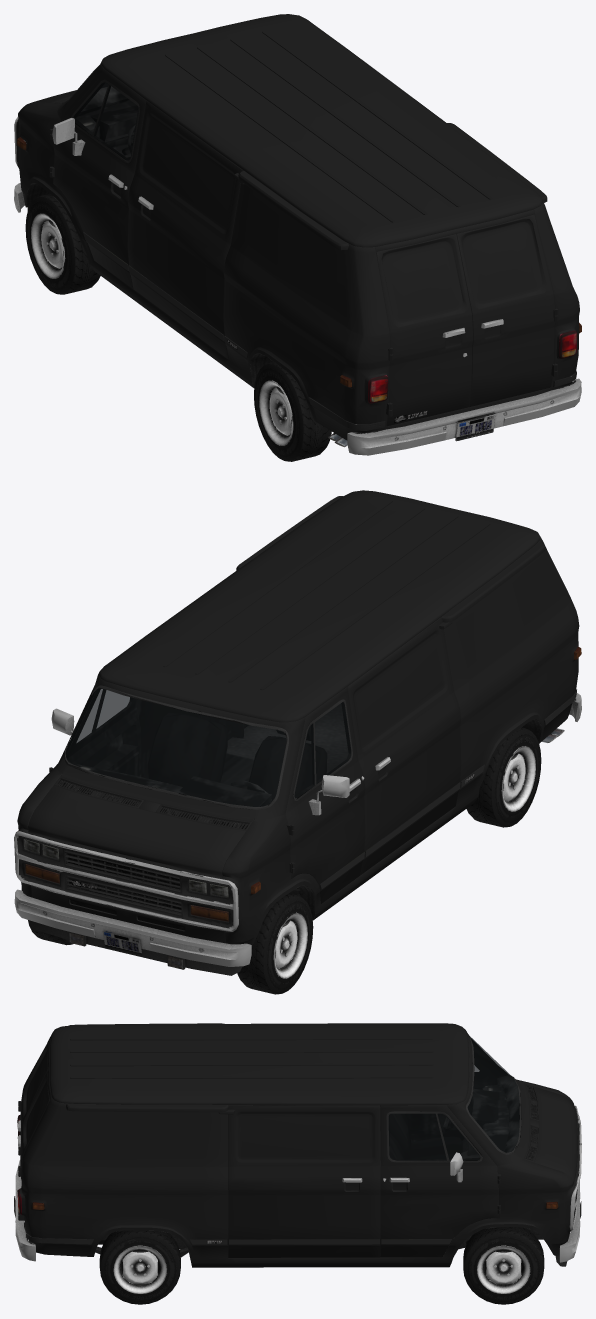
File: shvan_van.glb
The picture shows the model from 3 angles, top to bottom: view 1: azimuth 30°, elevation 25°; view 2: azimuth 150°, elevation 25°; view 3: azimuth 270°, elevation 25°; orthographic projection. The views are drawn at different scales.
Visible parts, largest first — view 1: Body, Trim, WheelRL, WheelFL, Interior, Glass, LightsRear; view 2: Body, Trim, Glass, Interior, WheelFL, WheelRL, LightsFront; view 3: Body, Glass, Interior, Trim, WheelFR, WheelRR.
Boxes of the visible parts, box(x1,y1,x2,y2) form: Body: box(16, 14, 579, 440); Trim: box(14, 66, 581, 455); WheelRL: box(254, 361, 331, 461); WheelFL: box(25, 193, 100, 294); Interior: box(73, 82, 351, 387); Glass: box(73, 82, 138, 160); LightsRear: box(368, 330, 577, 403); Body: box(17, 490, 579, 947); Trim: box(14, 646, 581, 975); Glass: box(65, 688, 351, 806); Interior: box(65, 688, 540, 892); WheelFL: box(237, 893, 313, 994); WheelRL: box(466, 727, 541, 827); LightsFront: box(23, 839, 228, 921); Body: box(18, 1023, 579, 1267); Glass: box(388, 1036, 519, 1160); Interior: box(32, 1038, 520, 1210); Trim: box(14, 1034, 581, 1267); WheelFR: box(463, 1227, 544, 1304); WheelRR: box(99, 1230, 180, 1304).
Size of the model in its own units: 8 by 6.56 by 16.66.
Materials: 6 (4 with a texture image).
